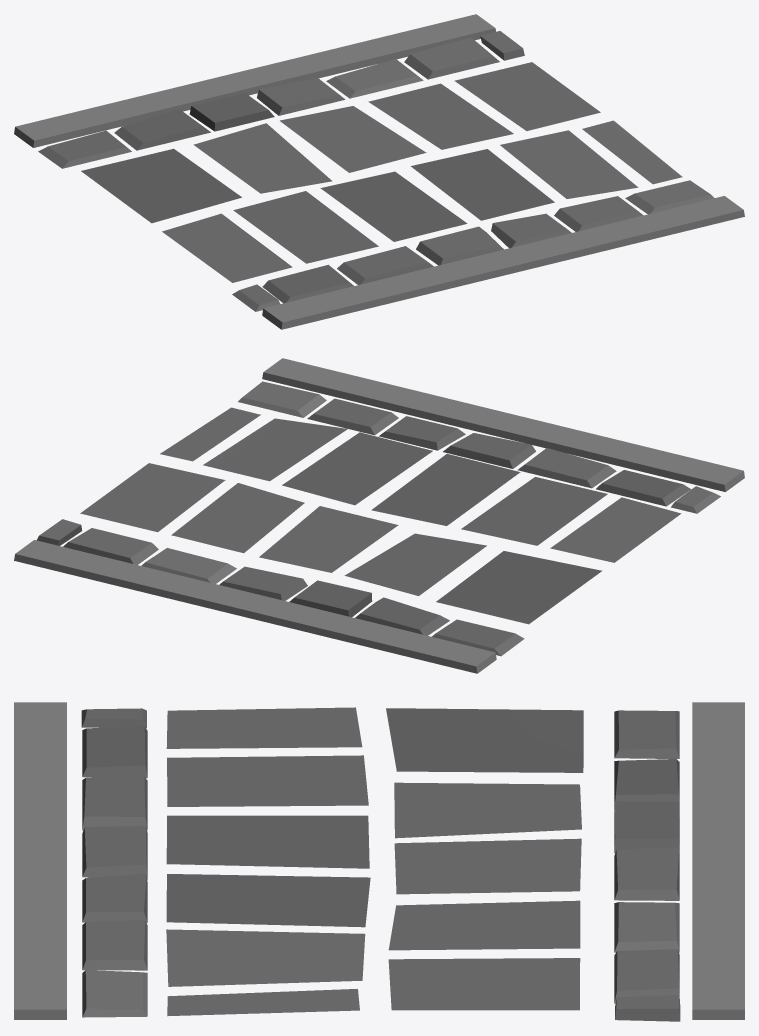
File: Road Cobble Straight.glb
The picture shows the model from 3 angles, top to bottom: view 1: azimuth 30°, elevation 25°; view 2: azimuth 150°, elevation 25°; view 3: azimuth 270°, elevation 25°; orthographic projection. The views are drawn at different scales.
Parts seen in each view (by area): view 1: RoadCobbleStraight; view 2: RoadCobbleStraight; view 3: RoadCobbleStraight.
Boxes of the visible parts, x1,y1,x2,y2 form: RoadCobbleStraight: (14,14,744,329); RoadCobbleStraight: (14,358,744,673); RoadCobbleStraight: (14,702,744,1021).
Size of what is drawn, in the model's own units: 2.02 by 0.0358 by 2.
Materials: 1 (1 with a texture image).
